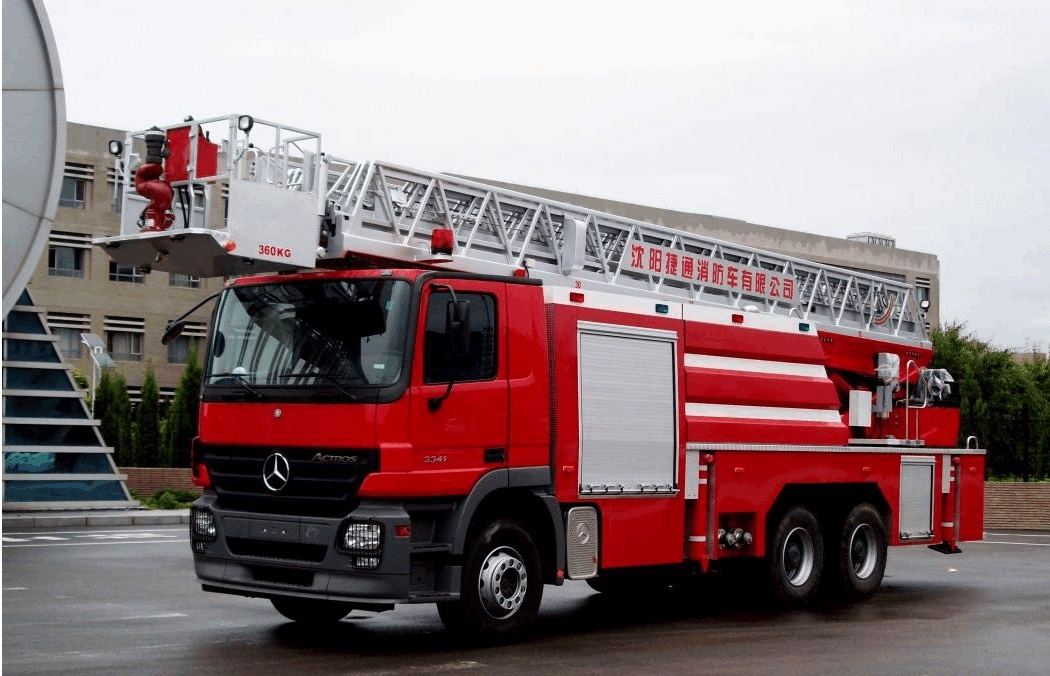bus: (84, 102, 975, 668)
